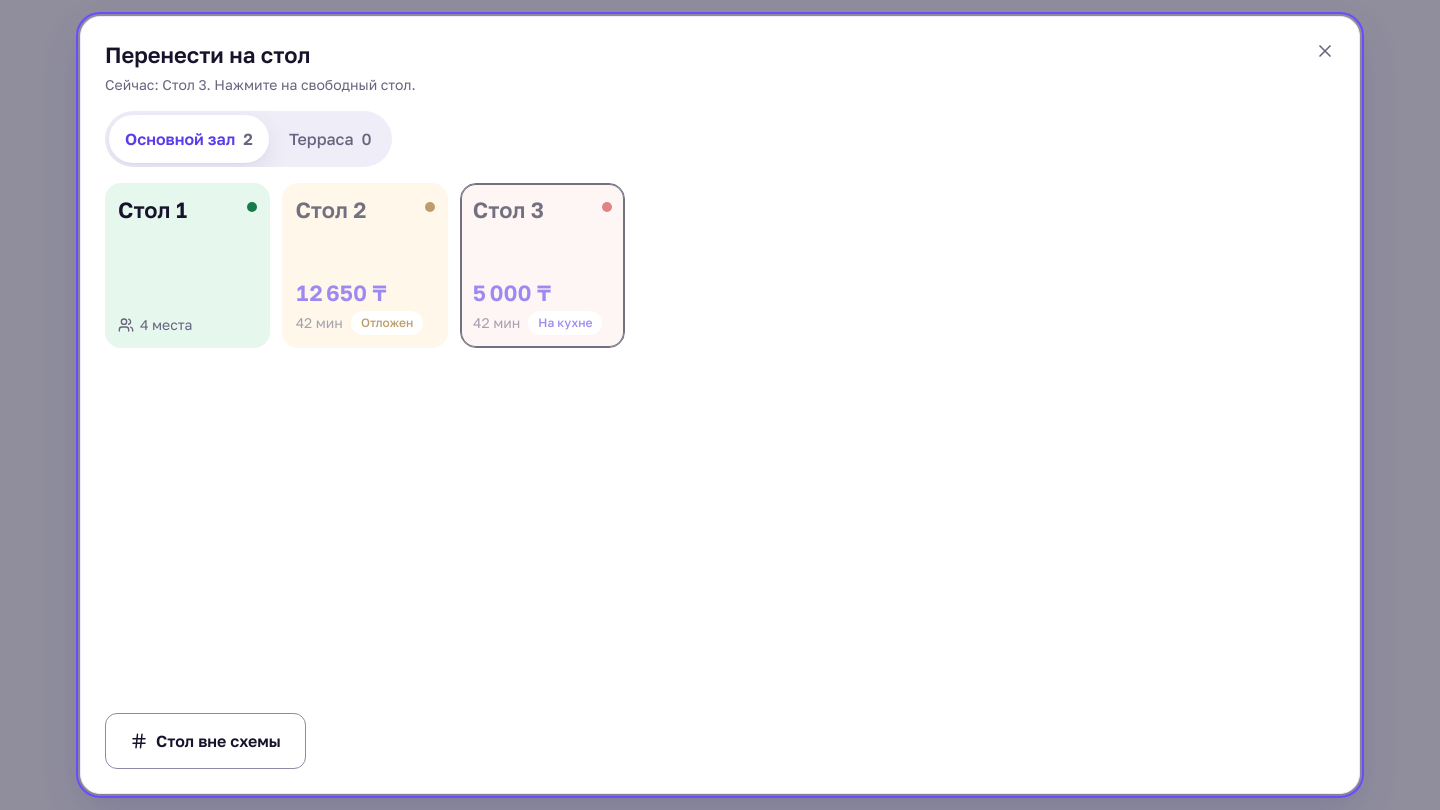
Test: FloorGrid «move» by number › refuses a taken table of the plan before asking the server
What coordinates should you click on to do the following:
click the button "Стол вне схемы"
I would click on:
 (205, 741)
Its box is [105,713,306,769].
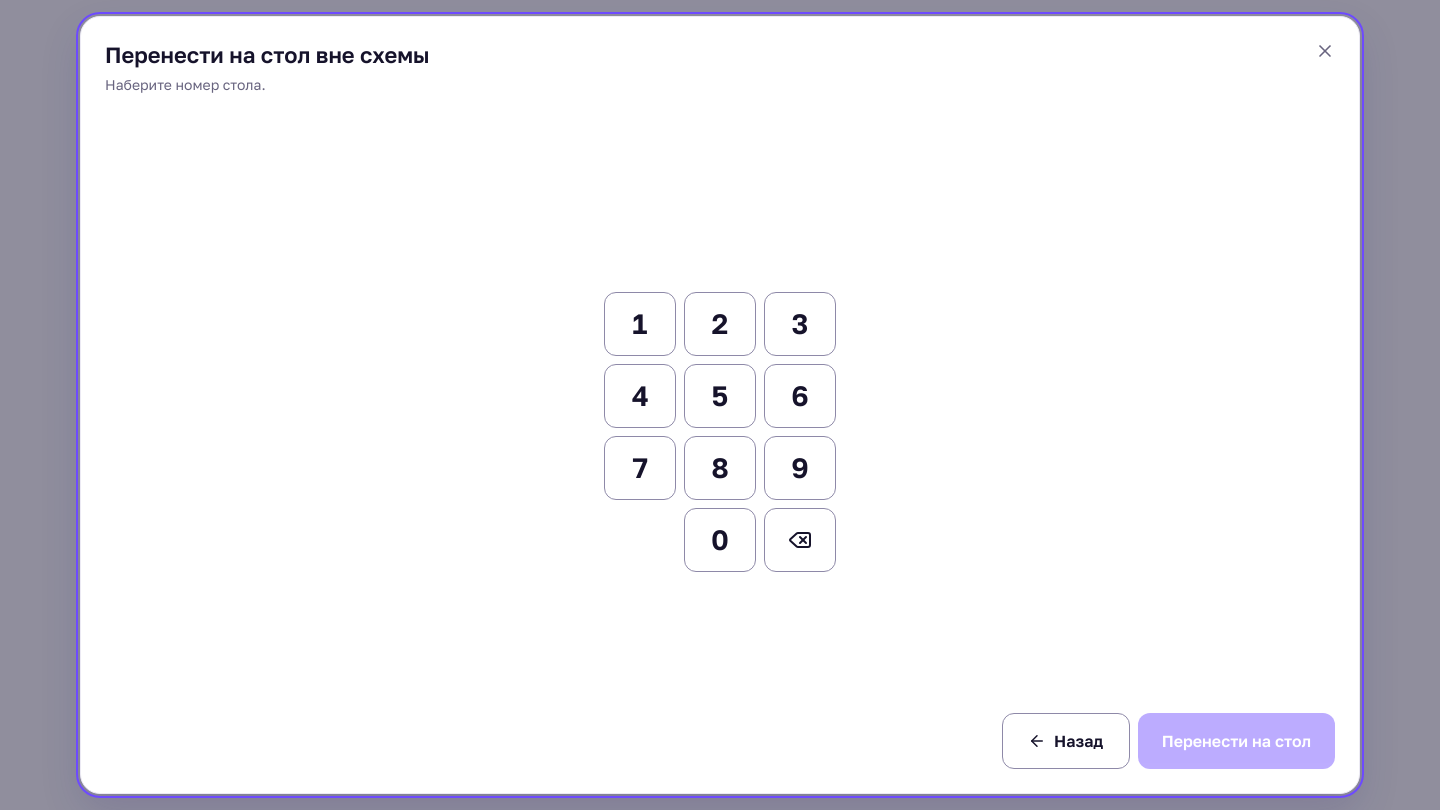
What coordinates should you click on to do the following:
click the button "2"
I would click on:
 (720, 324)
Its box is [684,292,756,356].
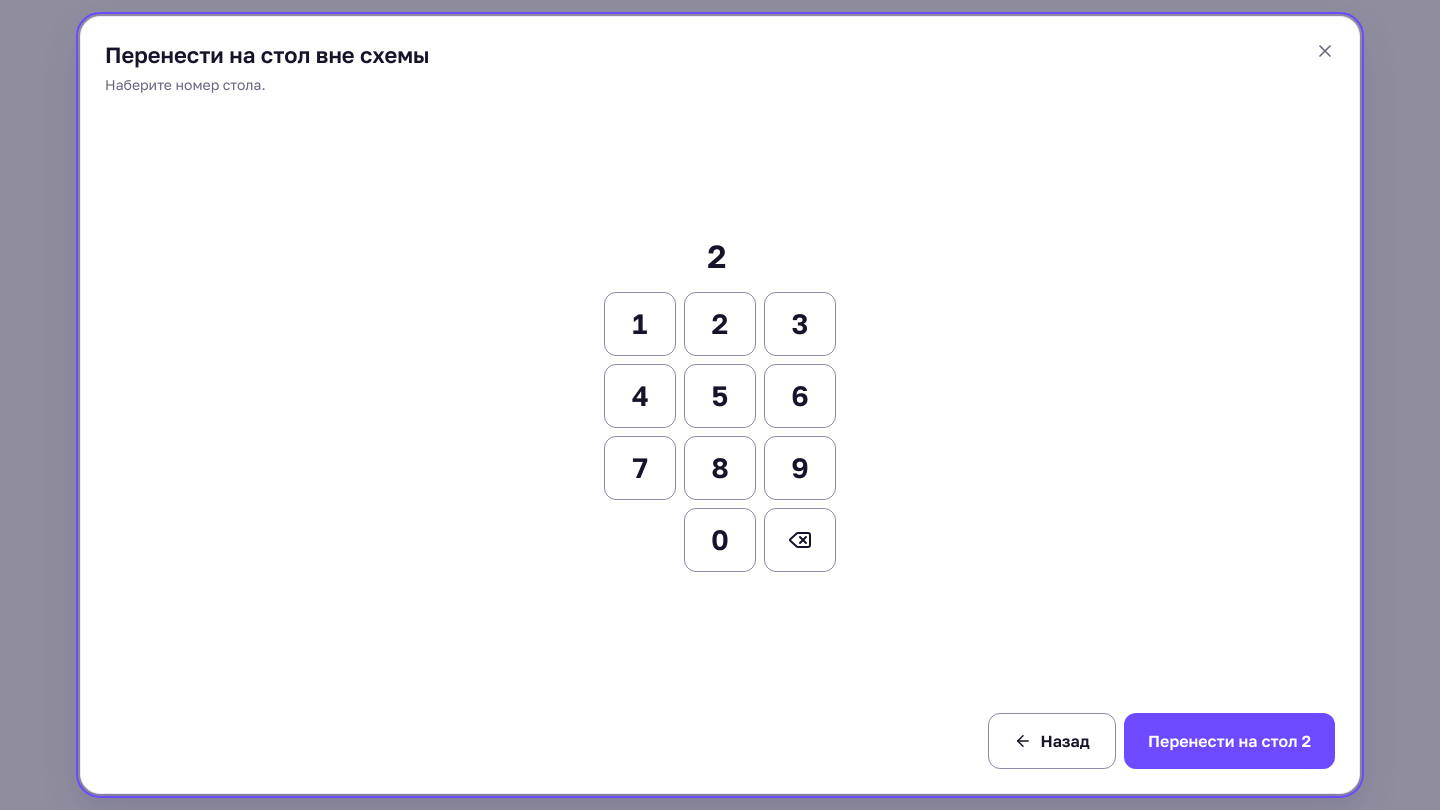
What coordinates should you click on to do the following:
click the button "Перенести на стол 2"
I would click on:
 (1230, 741)
Its box is [1124,713,1335,769].
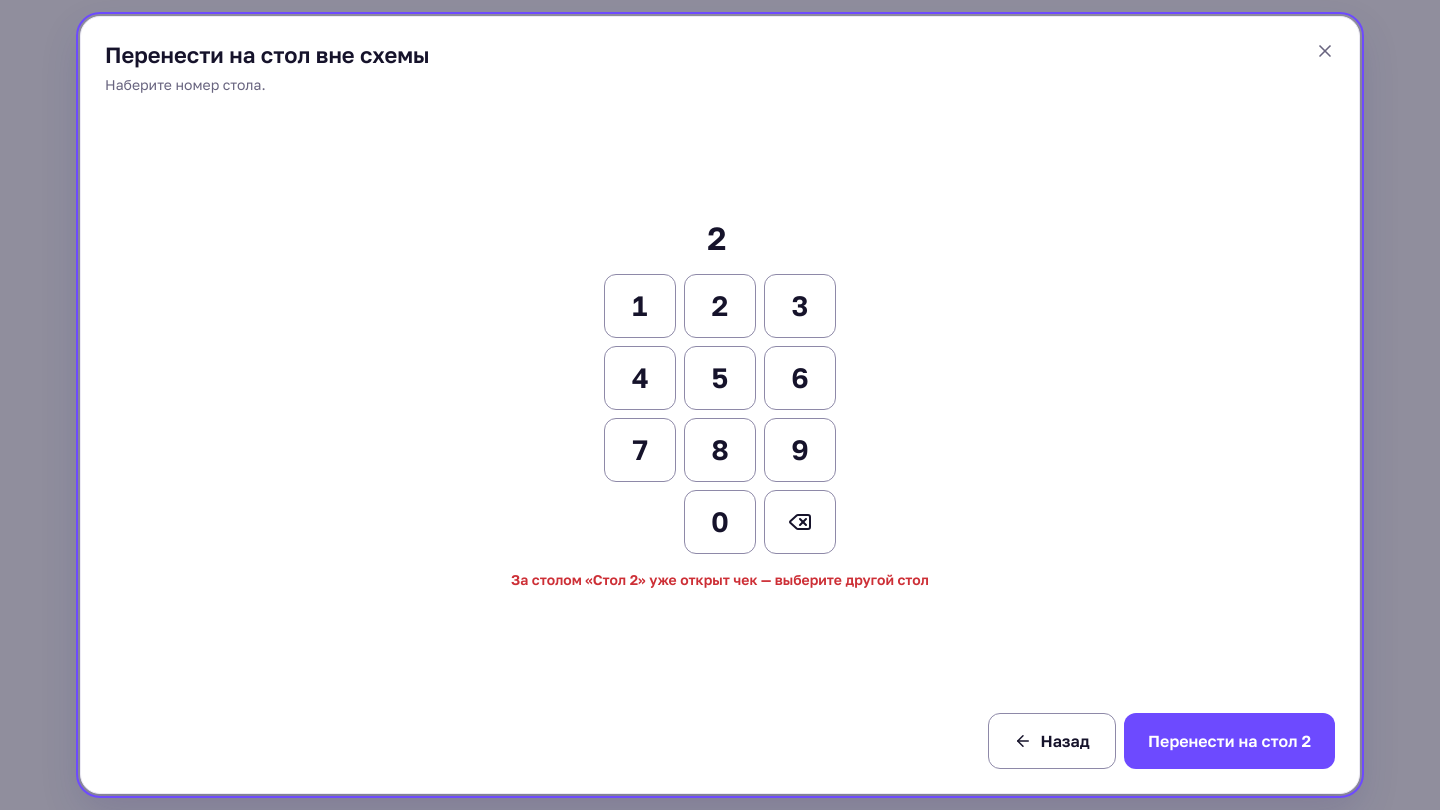
Expected: the message "За столом «Стол 2» уже открыт чек — выберите другой стол" is shown, [511,570,929,590]
